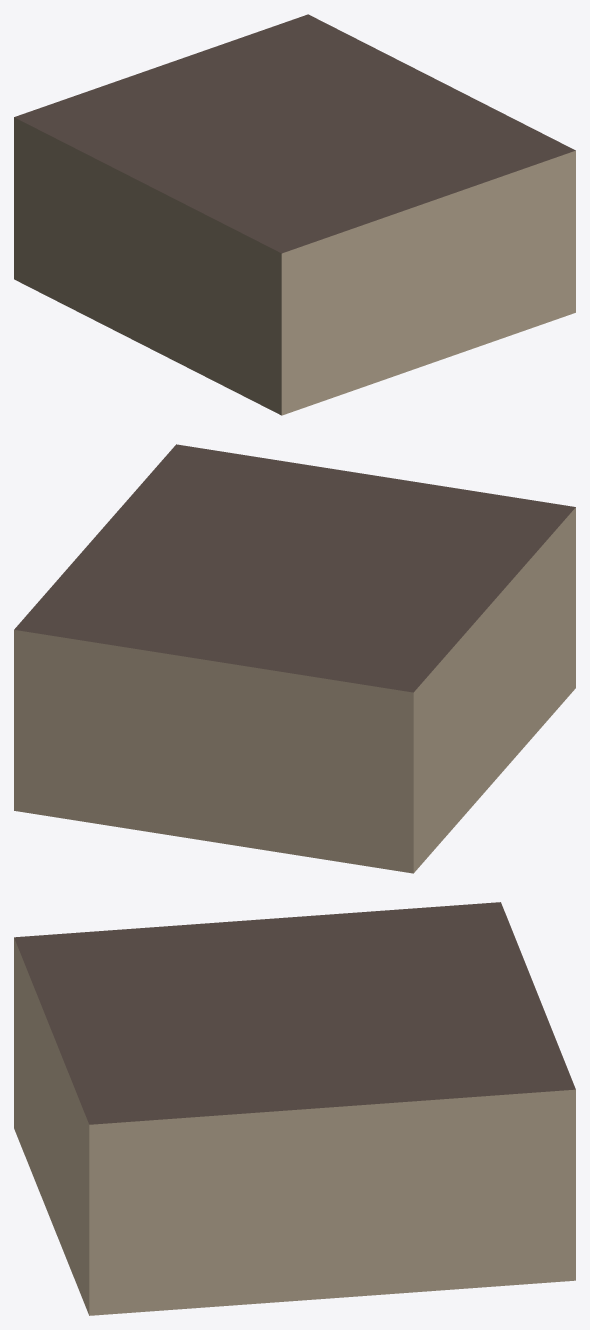
3 views of the same model, one above another, from view 1: azimuth 30°, elevation 25°; view 2: azimuth 150°, elevation 25°; view 3: azimuth 270°, elevation 25° (orthographic). The views are drawn at different scales.
Visible parts, largest first — view 1: HP-w1467986577; view 2: HP-w1467986577; view 3: HP-w1467986577.
Boxes of the visible parts, left/top/right/bottom form: HP-w1467986577: left=14, top=14, right=575, bottom=415; HP-w1467986577: left=14, top=444, right=575, bottom=873; HP-w1467986577: left=14, top=902, right=575, bottom=1315.
Bounding box in the file's own units: 22.5 × 9 × 23.99.
